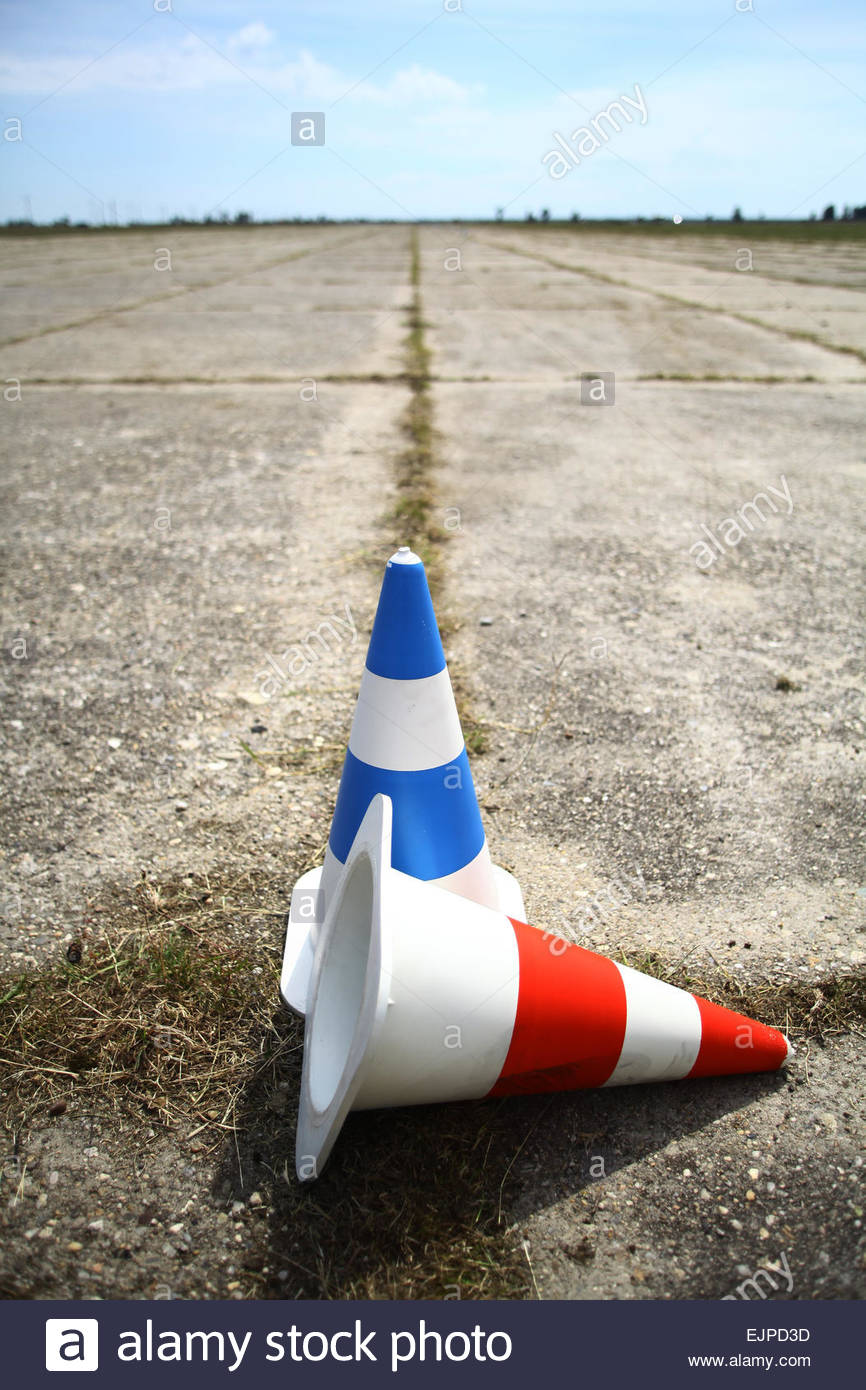cone: (286, 797, 798, 1171), (275, 547, 539, 1030)
